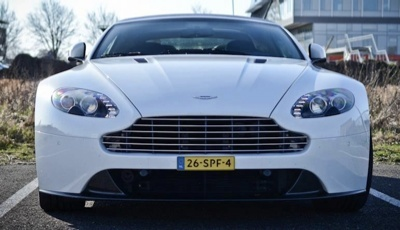plaka: (176, 155, 235, 171)
